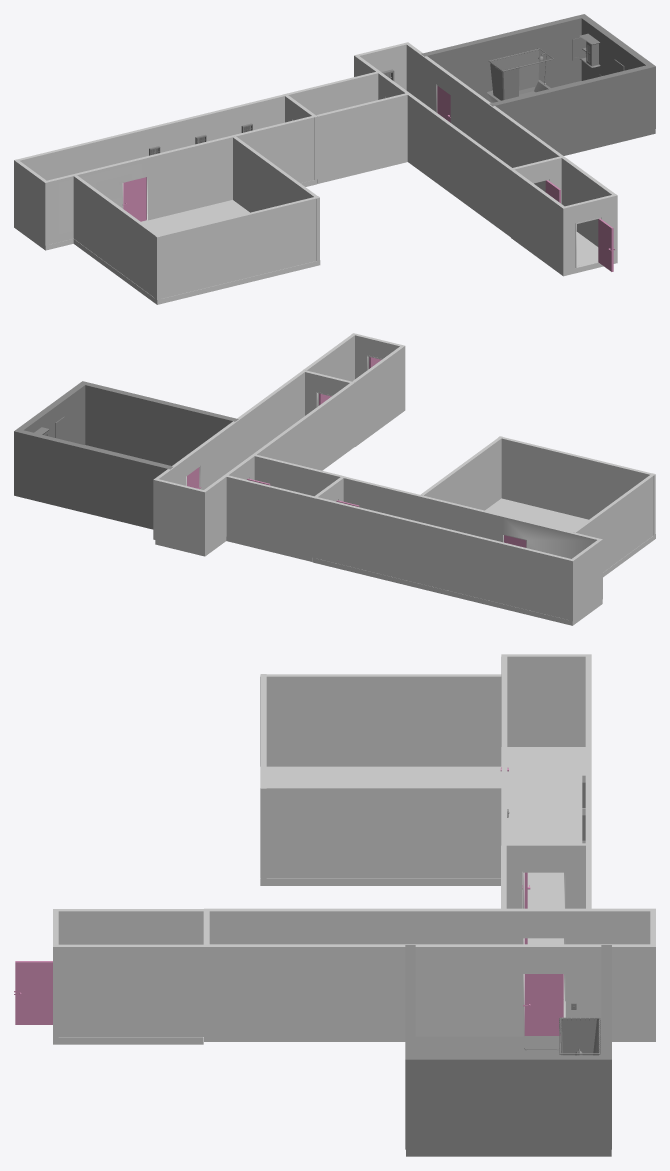
Rendered from prototype_map_11_27.FBX.
3 views of the same model, one above another, from view 1: azimuth 30°, elevation 25°; view 2: azimuth 150°, elevation 25°; view 3: azimuth 270°, elevation 25° (orthographic). The views are drawn at different scales.
Visible parts, largest first — view 1: Box003 (×2), Box004, Box038, Box001, Box035, Box028, Plane001, Cylinder006, Cylinder008; view 2: Box003, Box038, Box001, Box004, Box035, Box028; view 3: Box001, Box004, Box038, Box003, Box028, Cylinder008, Cylinder001, Plane001, Box035.
Boxes of the visible parts, left/top/right/bottom form: Box003 (×2): left=14, top=33, right=600, bottom=250; Box004: left=73, top=136, right=320, bottom=304; Box038: left=421, top=14, right=655, bottom=155; Box001: left=354, top=42, right=564, bottom=237; Box035: left=287, top=71, right=407, bottom=183; Box028: left=511, top=157, right=617, bottom=276; Plane001: left=488, top=48, right=553, bottom=100; Cylinder006: left=123, top=177, right=146, bottom=221; Cylinder008: left=598, top=218, right=615, bottom=271; Box003: left=312, top=476, right=602, bottom=625; Box038: left=14, top=381, right=238, bottom=529; Box001: left=153, top=370, right=355, bottom=556; Box004: left=420, top=436, right=655, bottom=577; Box035: left=226, top=454, right=341, bottom=561; Box028: left=304, top=333, right=405, bottom=446; Box001: left=203, top=908, right=655, bottom=1041; Box004: left=260, top=674, right=501, bottom=885; Box038: left=405, top=945, right=611, bottom=1156; Box003: left=501, top=654, right=591, bottom=908; Box028: left=53, top=909, right=203, bottom=1044; Cylinder008: left=14, top=961, right=52, bottom=1024; Cylinder001: left=523, top=974, right=563, bottom=1035; Plane001: left=559, top=1017, right=600, bottom=1055; Box035: left=501, top=845, right=591, bottom=998.
Bounding box in the file's own units: 3186 × 358 × 2131.
